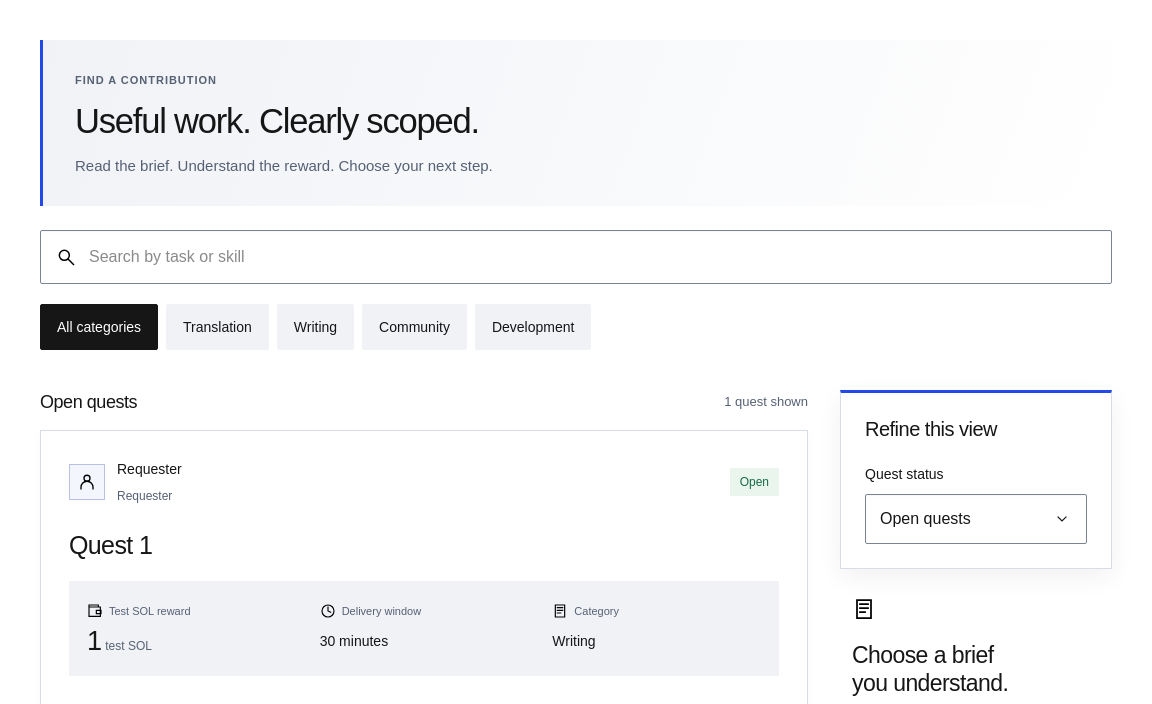
Scenario: keeps filters after a failure, does not show an empty board, and retries the same query
Step 1. Click the button "Translation" → [217, 327], box x1=166 y1=304 x2=269 y2=350
Wait 250 ms
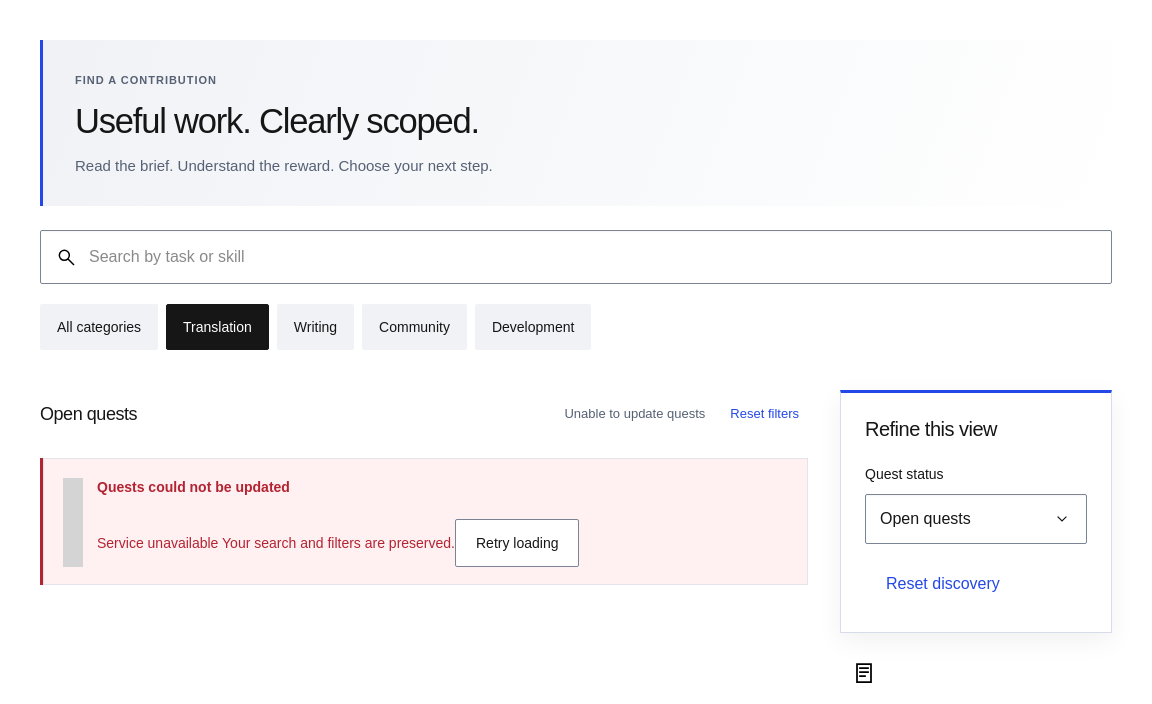
Expected: the message that starts with "Quests could not be updated" shows "Service unavailable", x1=97 y1=535 x2=218 y2=551
Step 2. Click the button "Retry loading" → [517, 543], box x1=455 y1=519 x2=580 y2=567
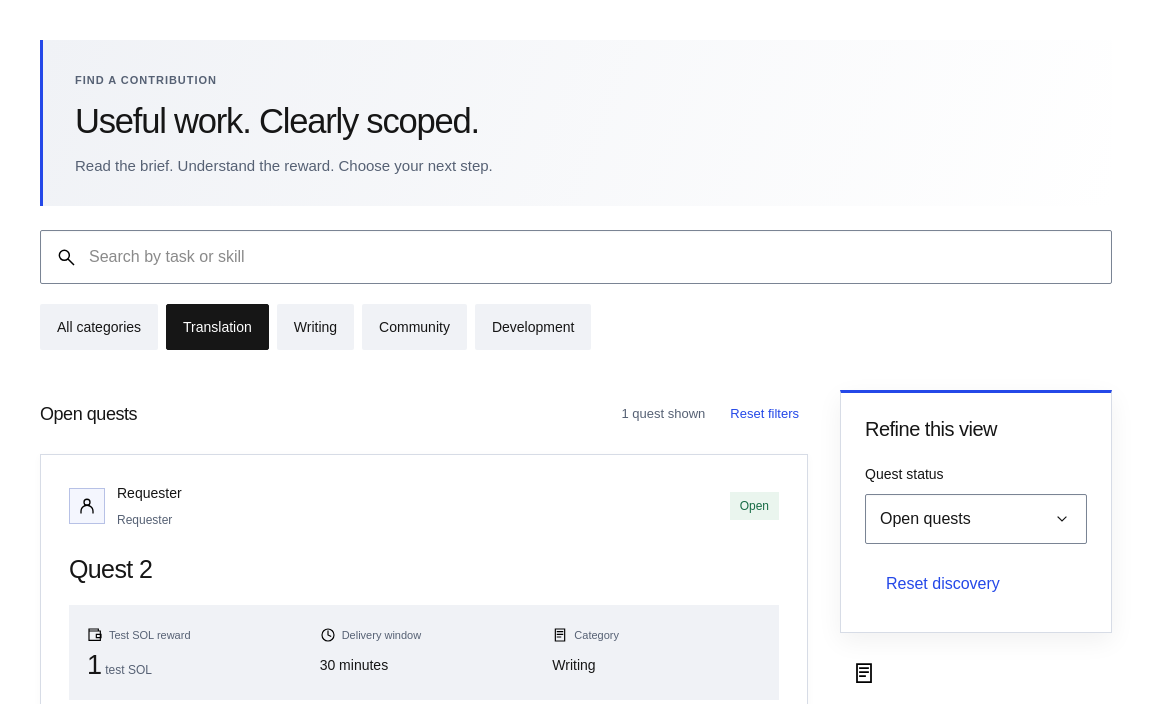
Expected: the message is gone
